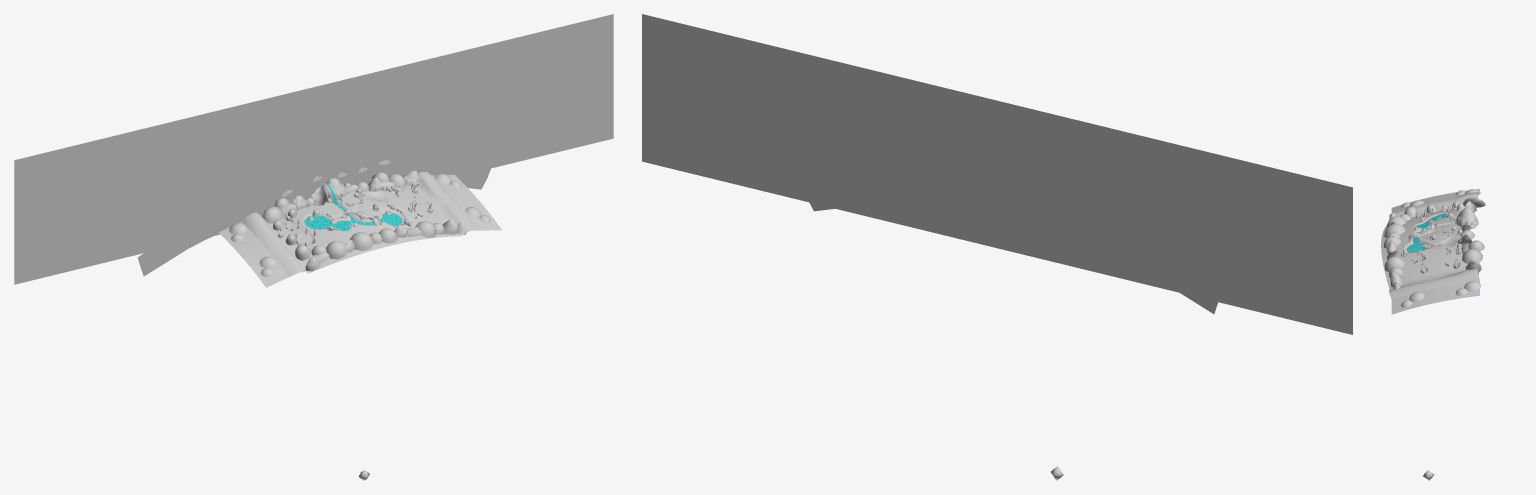
Rendered from changjingjiemian.FBX.
3 views of the same model, side by side, from view 1: azimuth 30°, elevation 25°; view 2: azimuth 150°, elevation 25°; view 3: azimuth 270°, elevation 25° (orthographic). The views are drawn at different scales.
Visible parts, largest first — view 1: changjing, shui; view 2: changjing; view 3: changjing, shui.
Part boxes in pixels (bbox=[...]): changjing: bbox=[14, 14, 613, 480]; shui: bbox=[304, 203, 402, 230]; changjing: bbox=[642, 14, 1352, 480]; changjing: bbox=[1381, 189, 1485, 480]; shui: bbox=[1406, 213, 1446, 252].
Bounding box in the file's own units: 692831 × 394571 × 151910.
